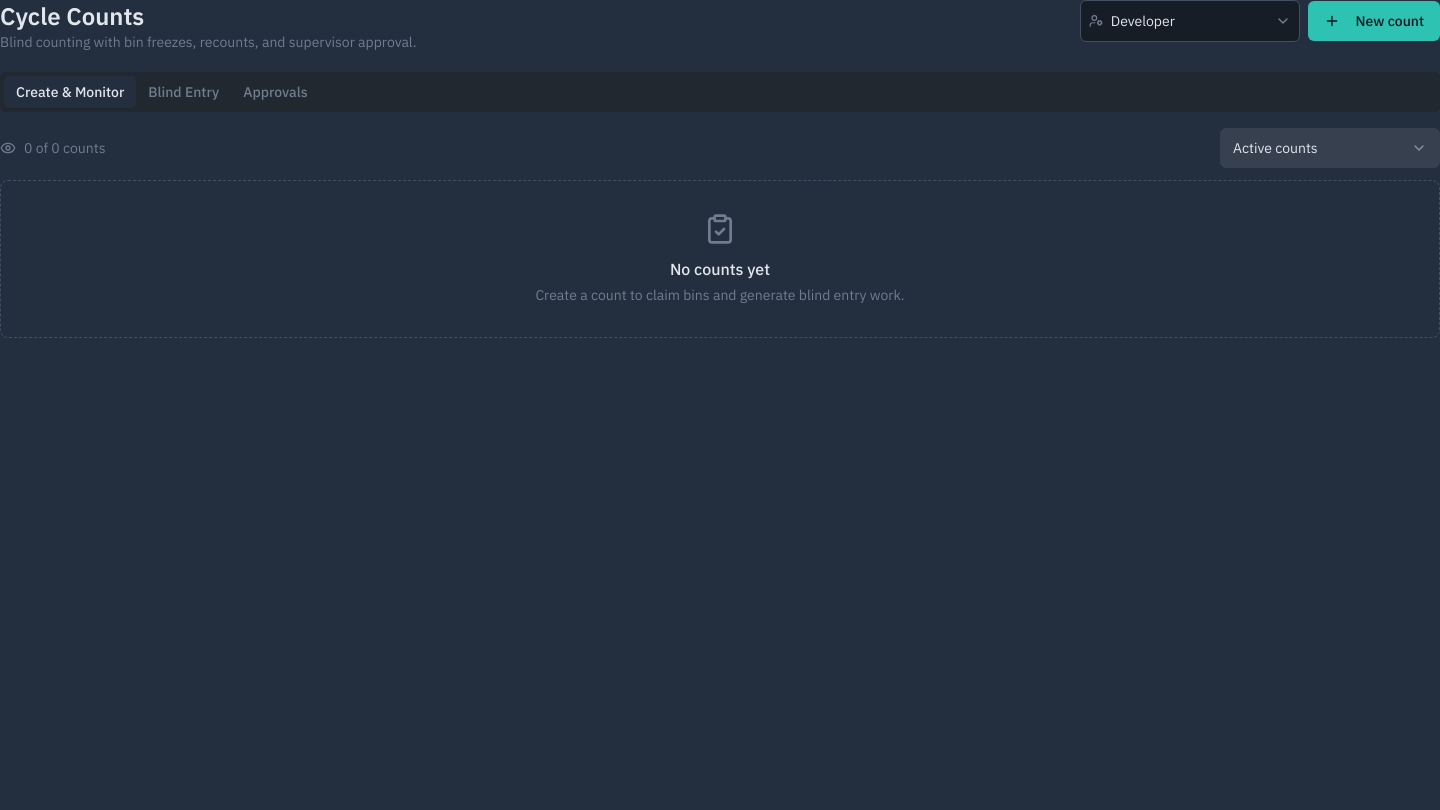
Test: CycleCountsPage › uses a checklist for selecting any, all, or a subset of active-warehouse zones
What coordinates should you click on to do the following:
click the button "New count"
I would click on:
 (1374, 21)
Its box is [1308,1,1439,41].
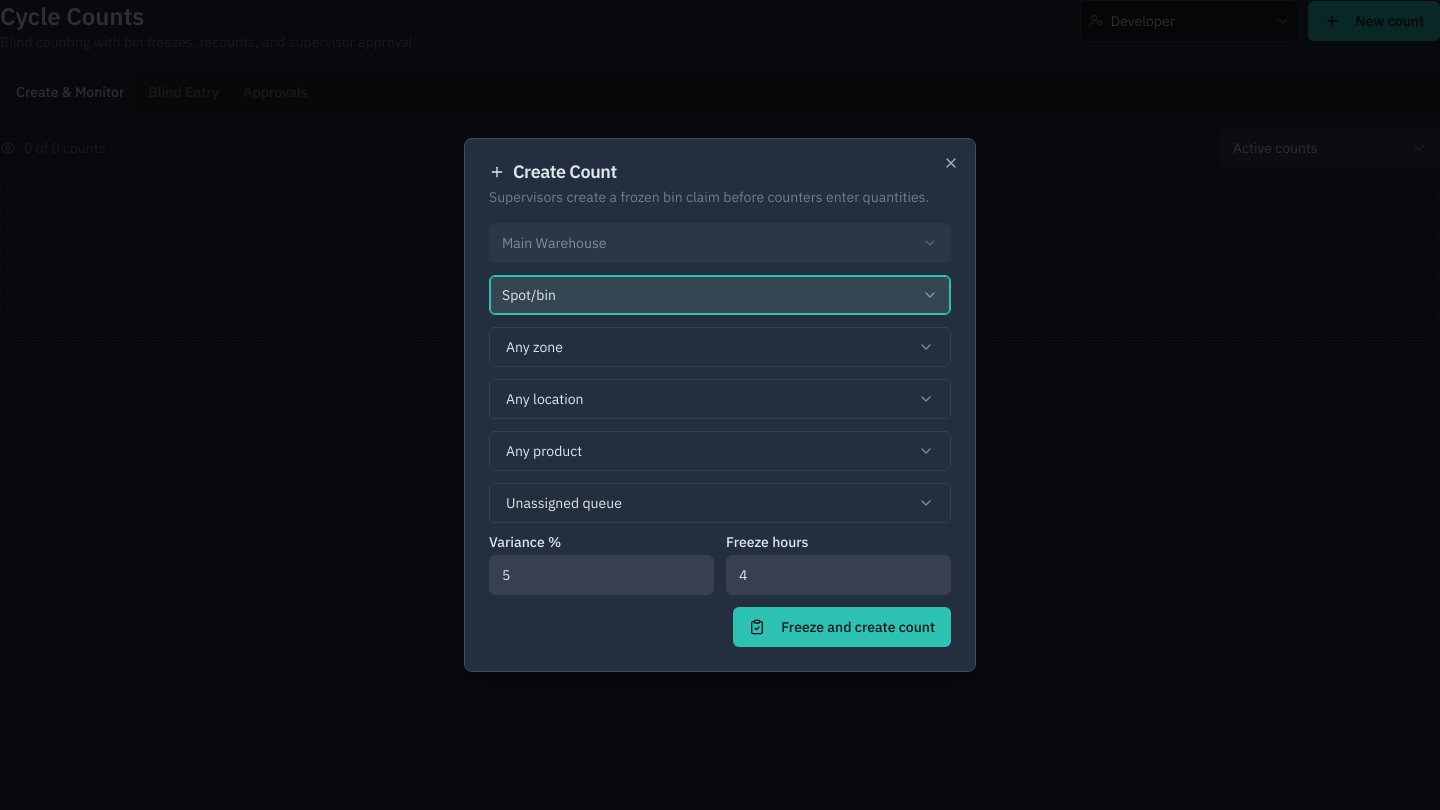
What coordinates should you click on to do the following:
click the dropdown named "choose zones"
I would click on:
 (534, 347)
Its box is [489,327,951,367].
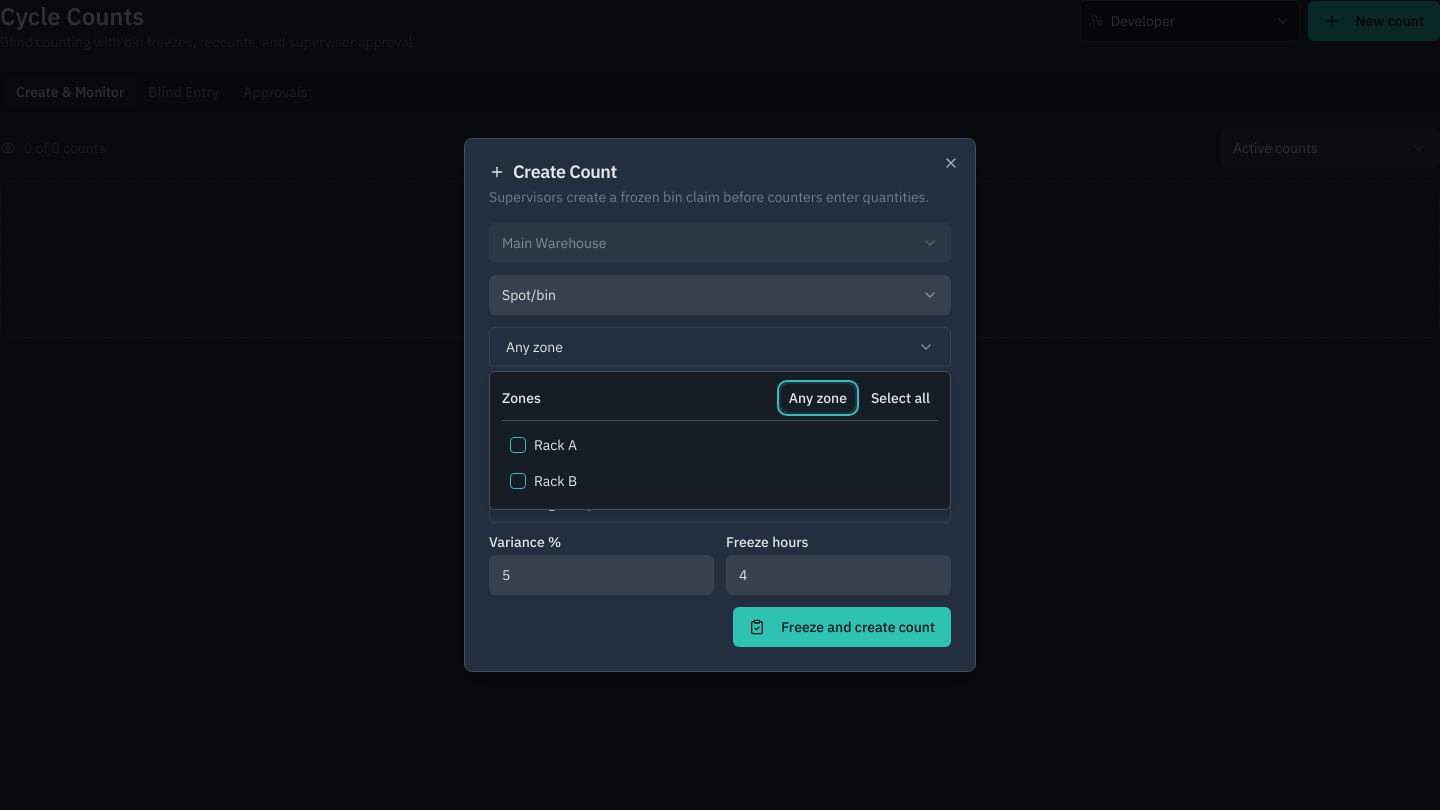
Expected: the element named "zone selection" is shown, [510,436,577,490]
What coordinates should you click on to do the following:
click the button "Select all"
I would click on:
 (900, 398)
Its box is [863,384,938,412].
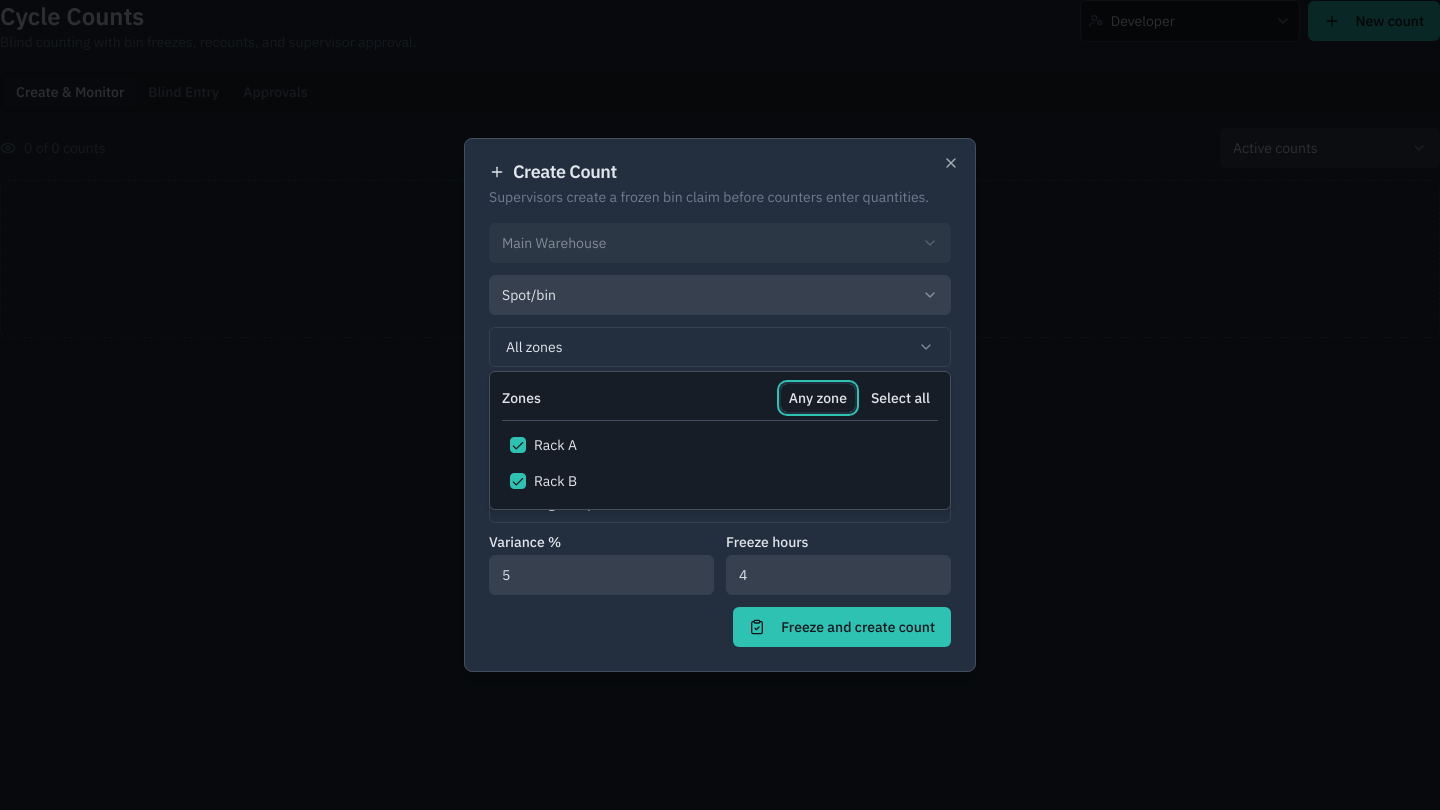
Expected: the text "All zones" is shown, [506,337,562,357]
What coordinates should you click on to do the following:
click the button "Any zone"
I would click on:
 (818, 398)
Its box is [781,384,855,412].
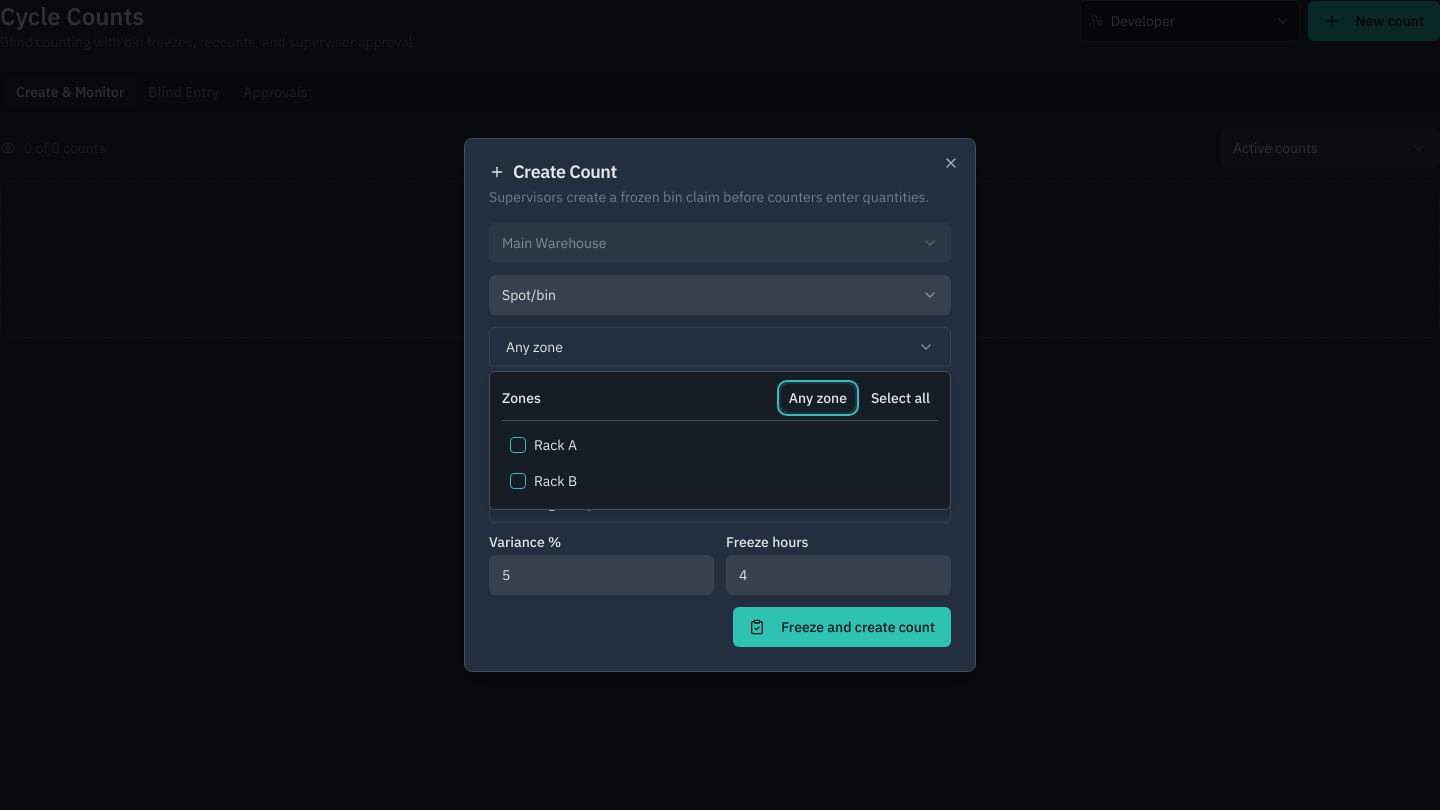
Expected: the dropdown named "choose zones" reads "Any zone", [489,327,951,367]
